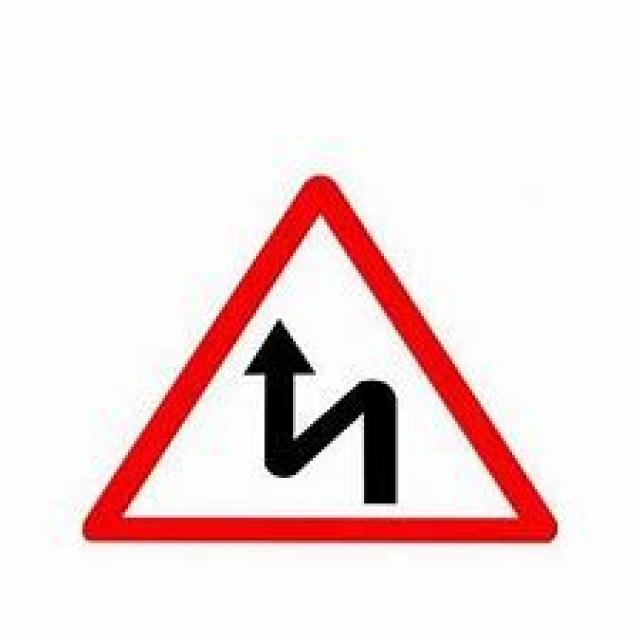LEFT_REVERSE_BEND: (80, 175, 558, 545)
